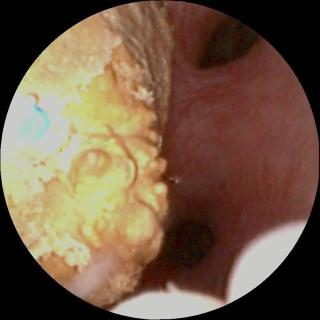fiber: (19, 105, 47, 143)
stone: (5, 3, 174, 306)
tissue: (112, 7, 312, 316)
